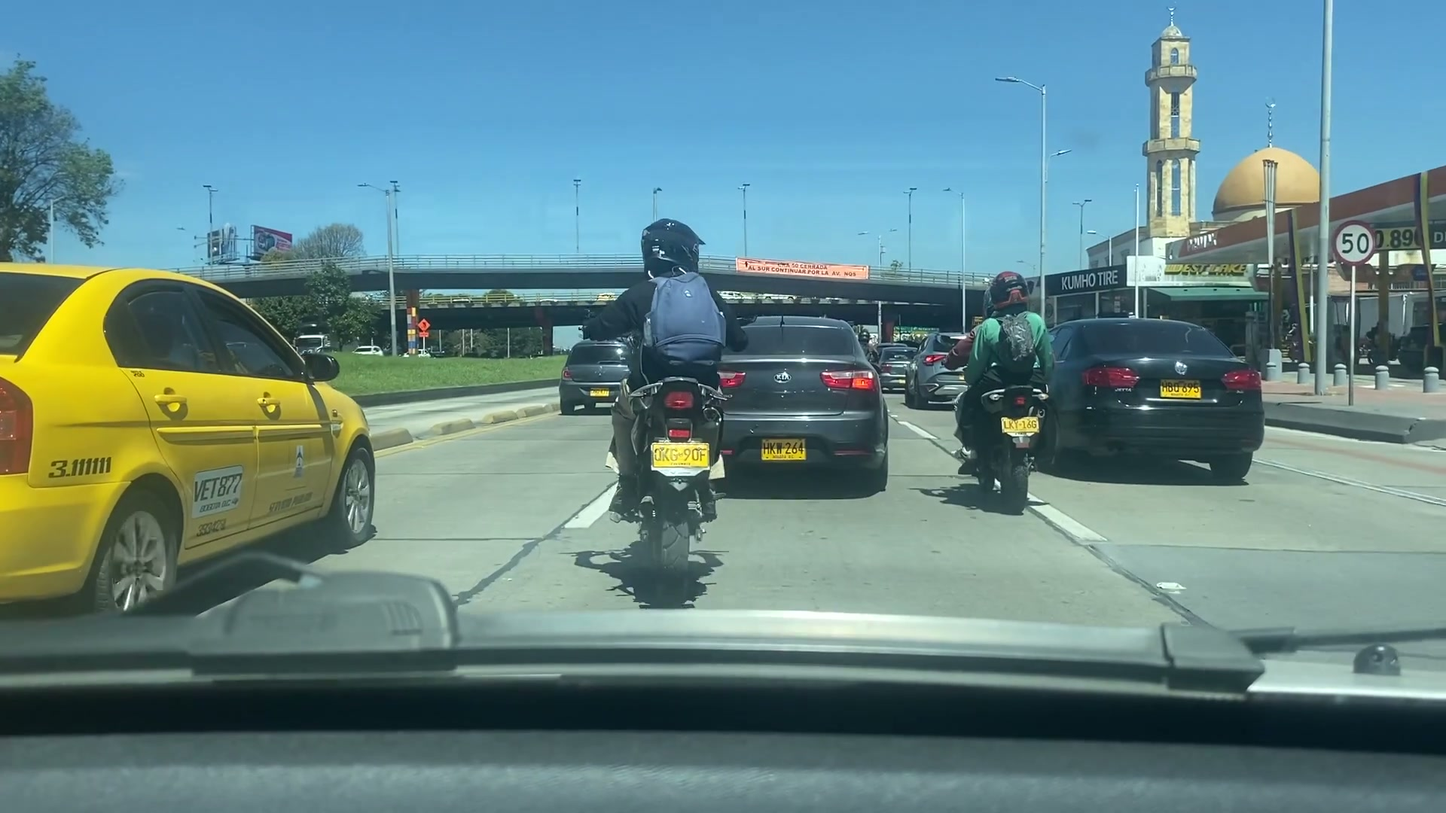car: (0, 260, 381, 611), (1037, 319, 1268, 482), (697, 314, 892, 487), (555, 341, 636, 416), (905, 332, 979, 405), (878, 344, 922, 387)
motorcycle: (603, 374, 737, 608), (954, 381, 1052, 518)
person: (586, 215, 749, 516), (944, 266, 1053, 467)
